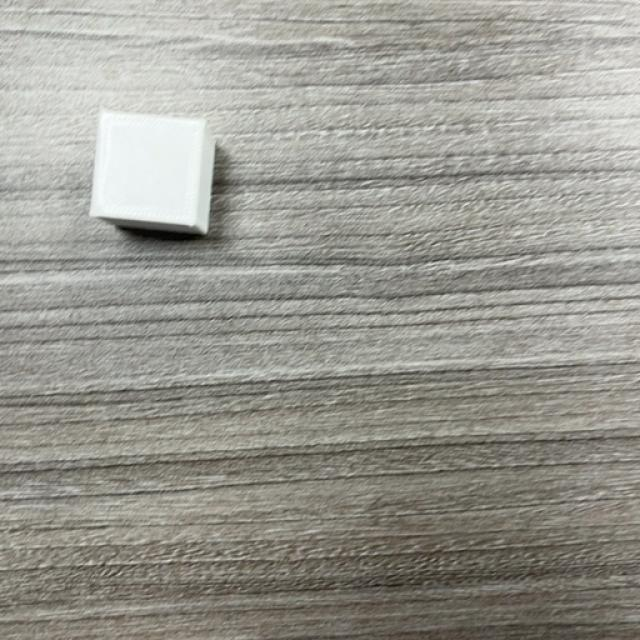Blanco: (90, 111, 218, 238)
